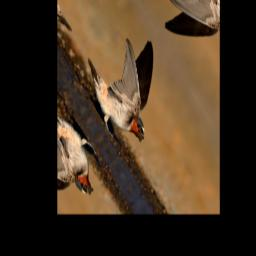Swallow: (72, 10, 185, 160)
